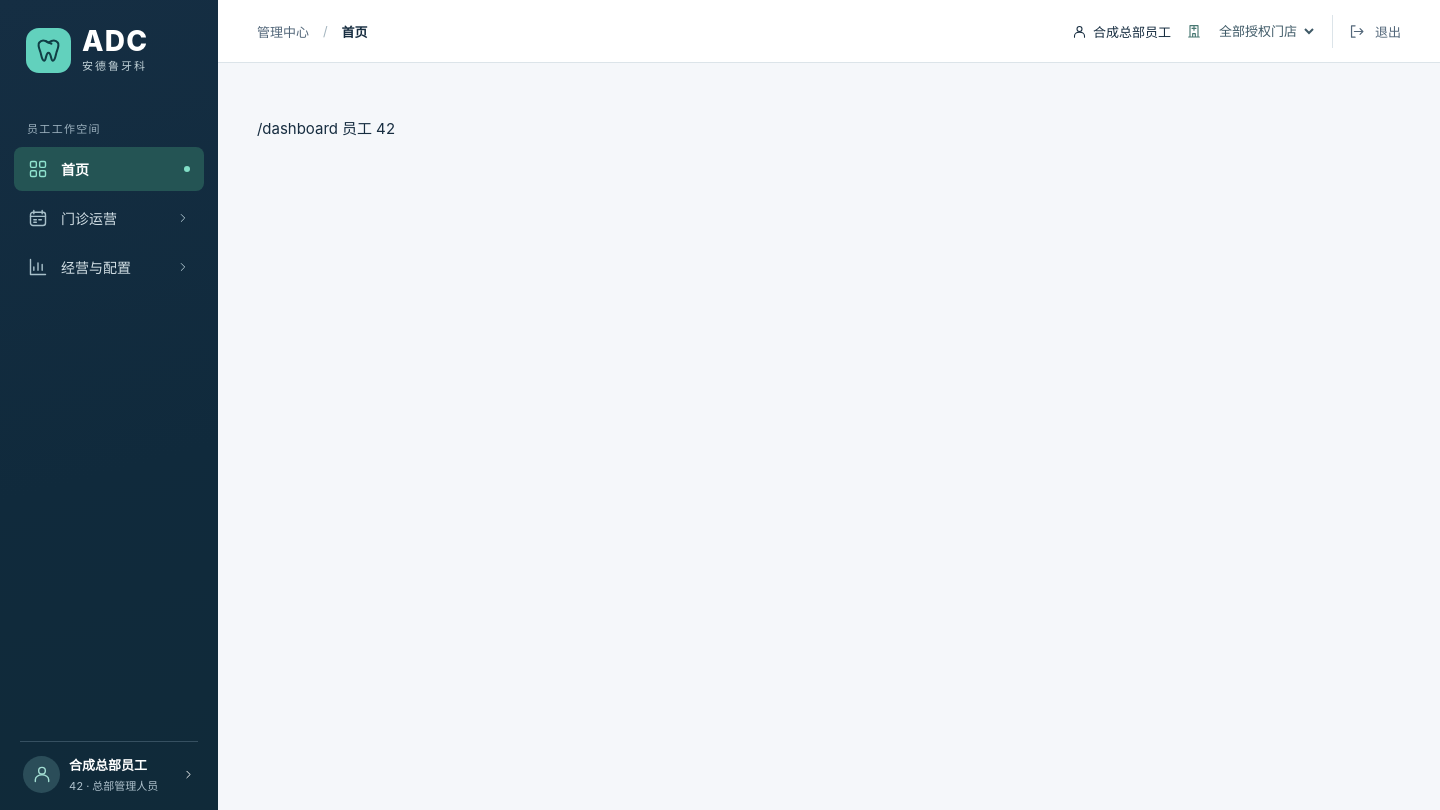
Test: one headquarters employee uses scheduling and operations in the same account and workbench
The image size is (1440, 810).
Check: the text "42 · 总部管理人员" is shown, box [69,777,158,793]
Click the button "门诊运营" at (109, 218), box [14,196,204,240]
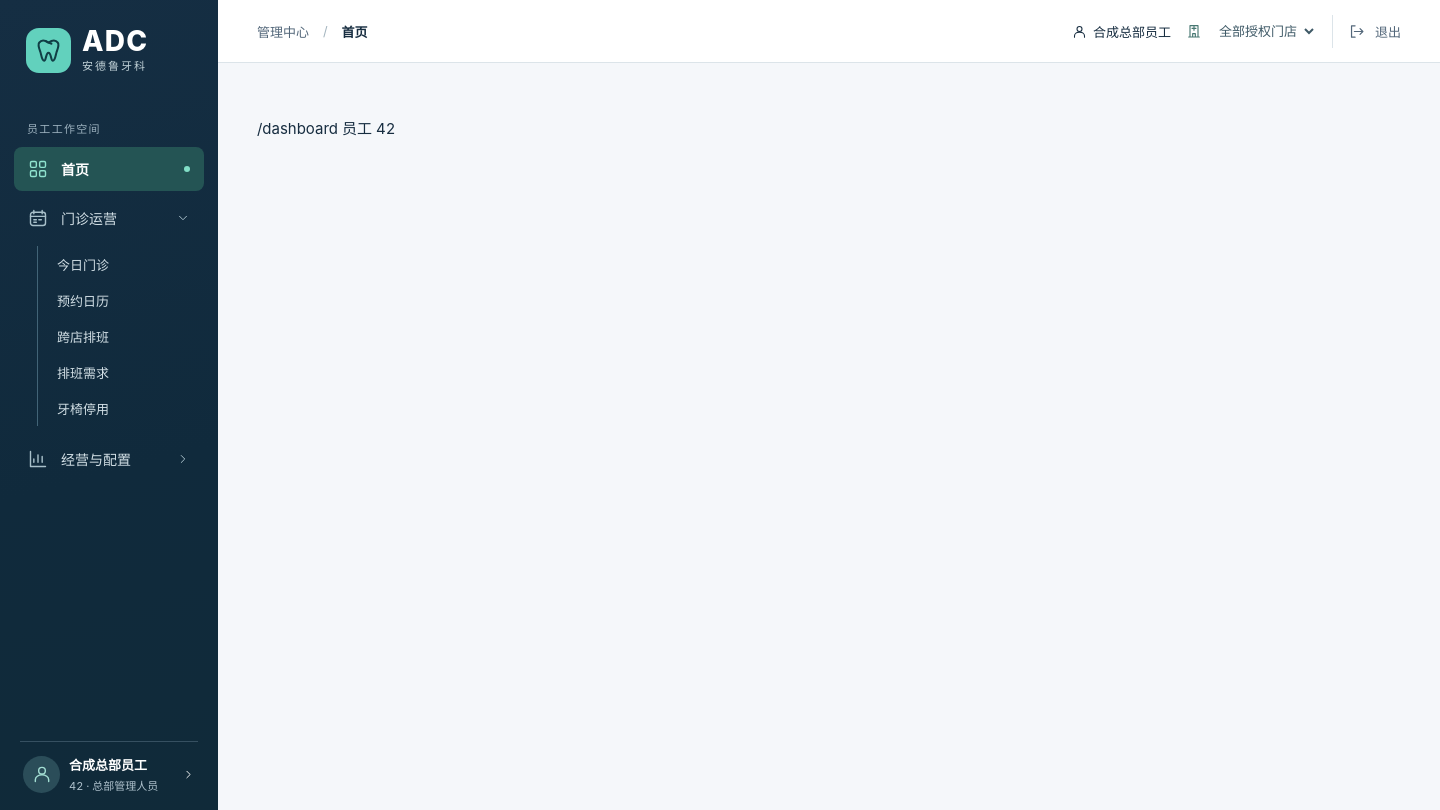
Click the link "跨店排班" at (83, 336), box [57,328,109,344]
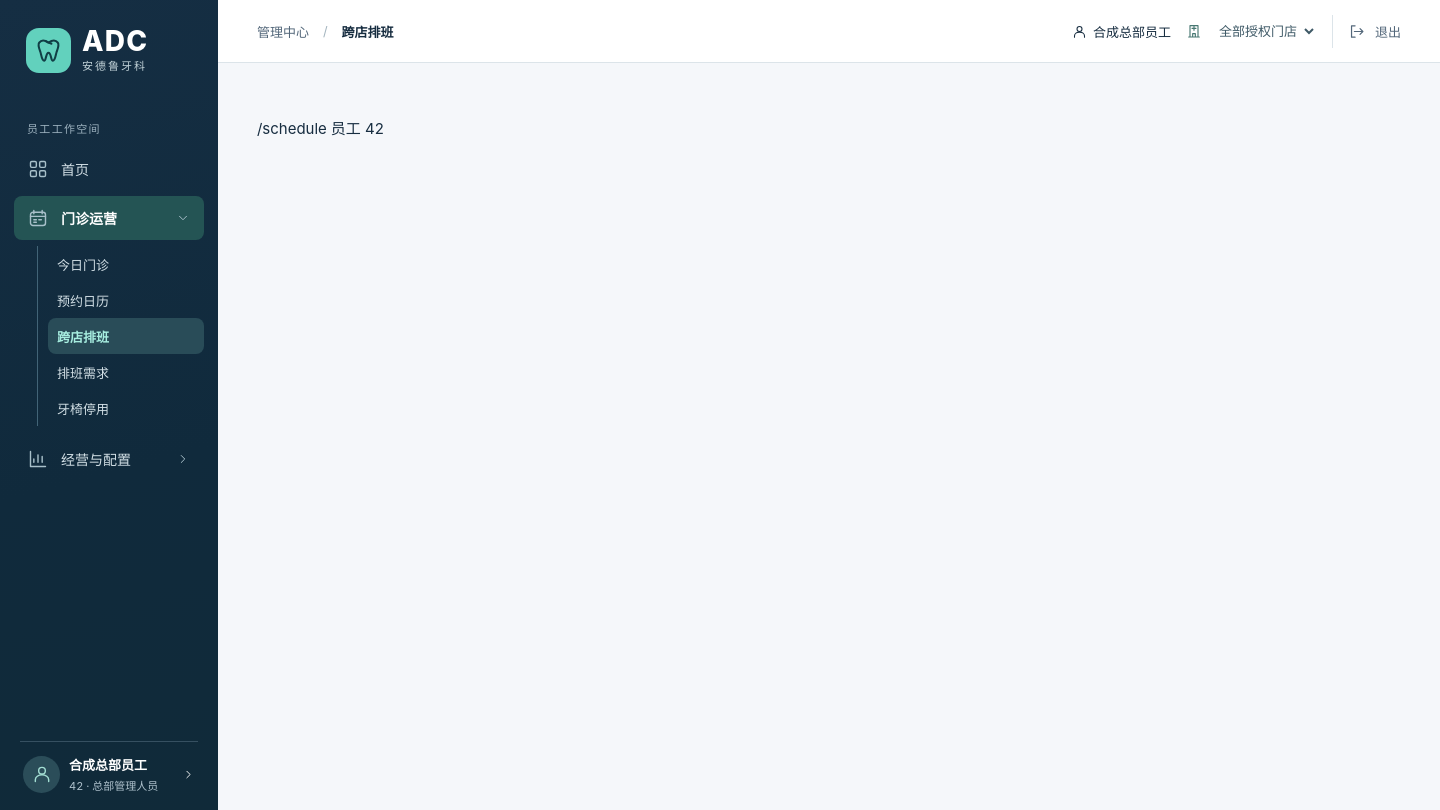
Check: the text "/schedule 员工 42" is shown, box [257,119,384,138]
Click the button "经营与配置" at (109, 459), box [14,437,204,481]
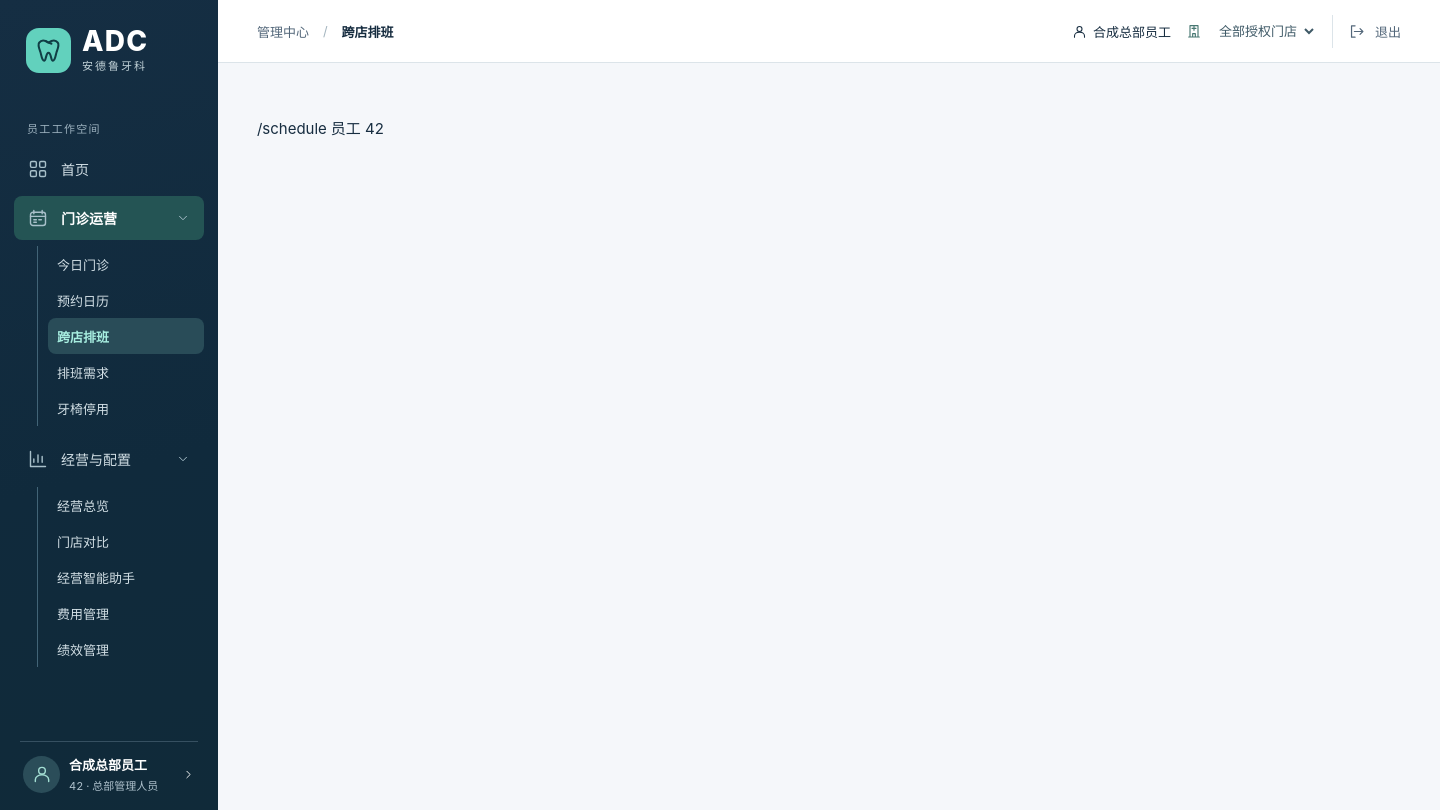
Click the link "经营总览" at (83, 506), box [57,498,109,514]
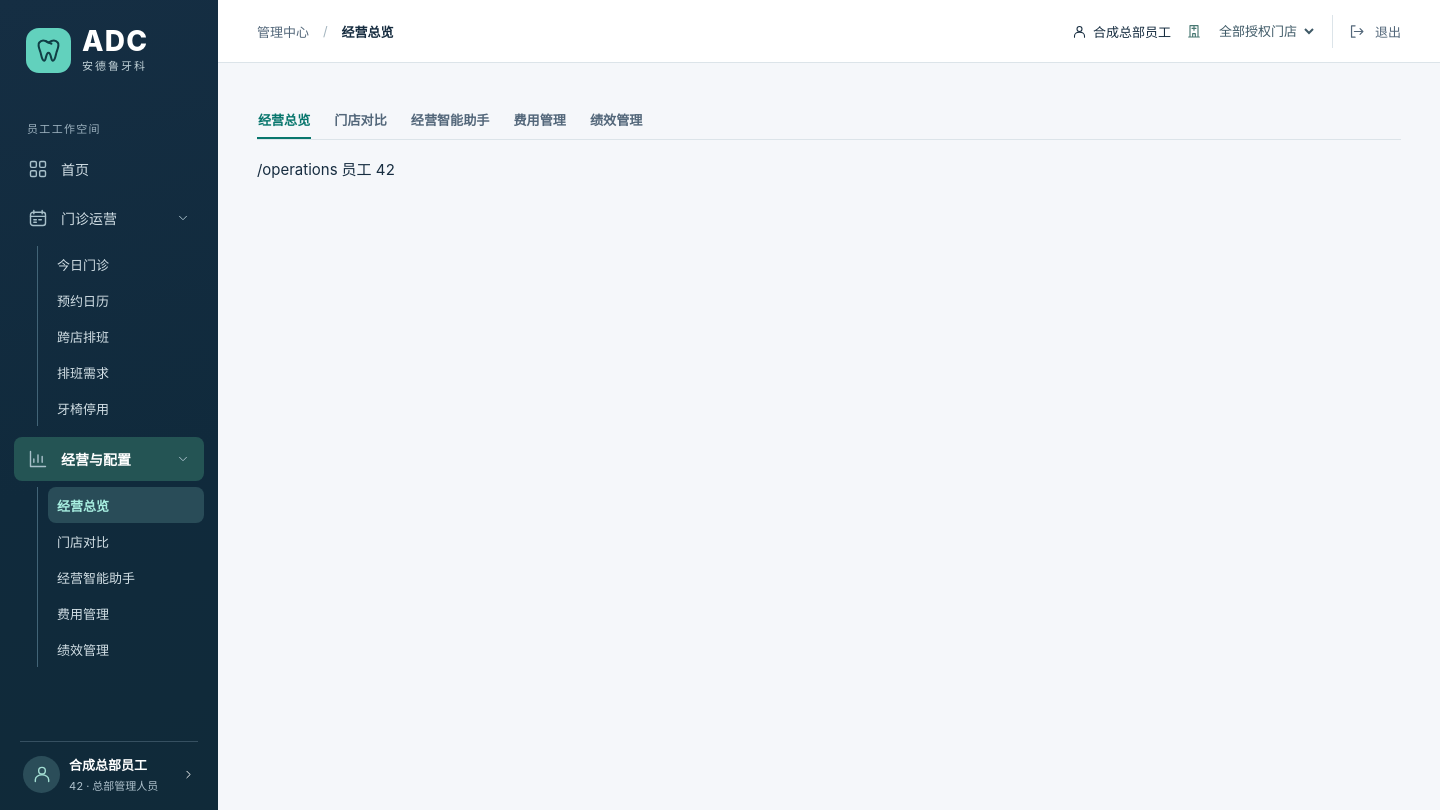
Check: the text "/operations 员工 42" is shown, box [257,160,395,179]
Select "滨江门诊" in the dropdown named "工作门店" at (1265, 31), box [1212,17,1317,45]
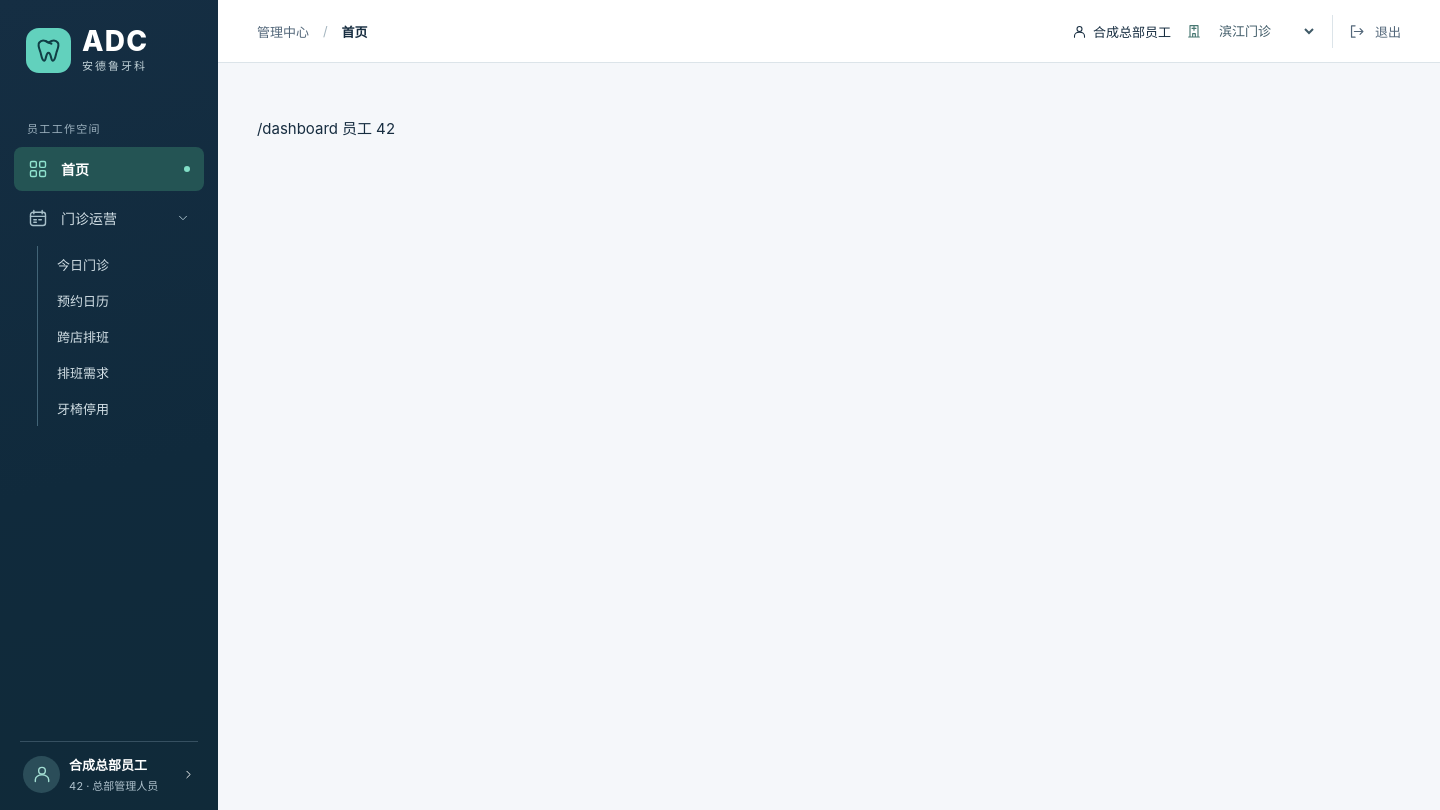
Check: the text "/dashboard 员工 42" is shown, box [257,119,396,138]
Check: the button "经营与配置" is gone
